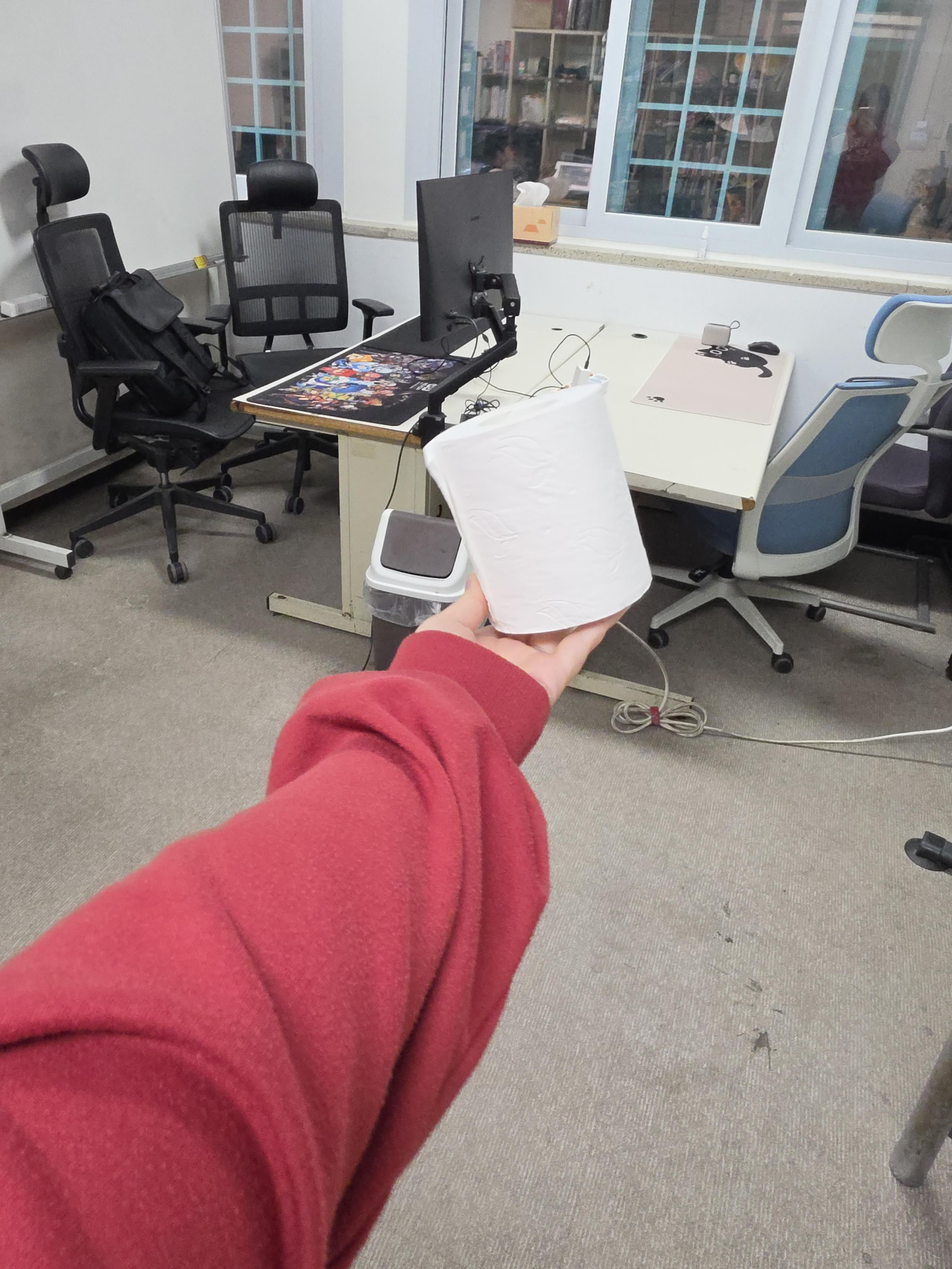tissue: (421, 379, 652, 635), (512, 181, 561, 247)
